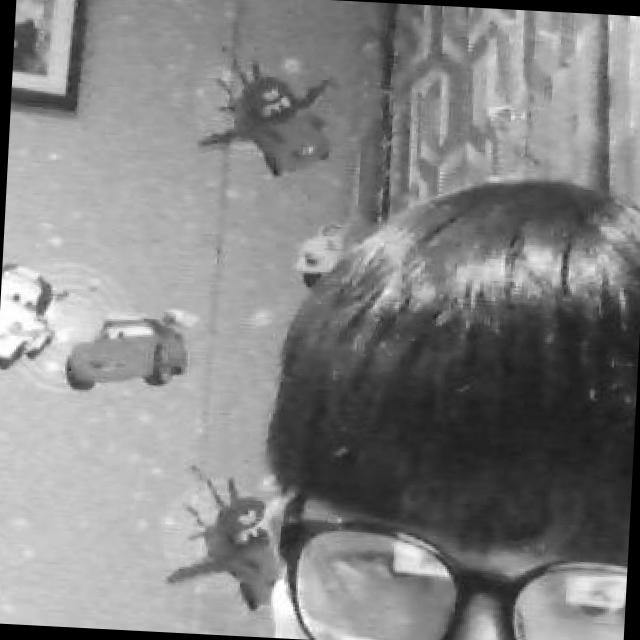Focused: (271, 166, 640, 640)
